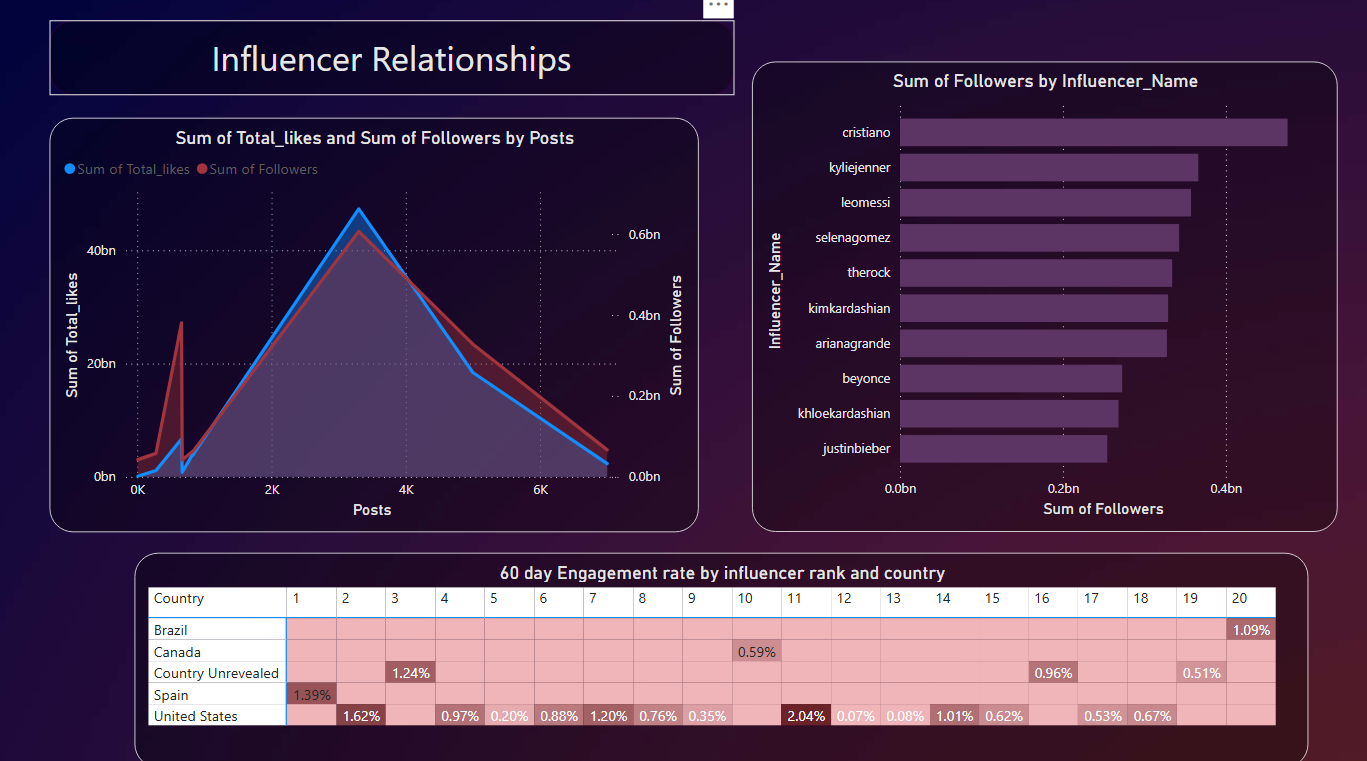

This screenshot's page, from the dashboard's own definition file:
{"tool":"powerbi","page":{"name":"Dashboard Pg4","canvas":[1280,720],"ordinal":3},"visuals":[{"type":"pivotTable","title":"60 day Engagement rate by influencer rank and country","fields":{"Columns":["top_insta_influencers_data.Rank"],"Values":["Avg(top_insta_influencers_data.60_day_eng_rate)"],"Rows":["top_insta_influencers_data.Country"]},"box":[127.6,520.1,1092.3,200.3],"z":0},{"type":"areaChart","fields":{"Category":["top_insta_influencers_data.Posts"],"Y":["Sum(top_insta_influencers_data.Total_likes)"],"Y2":["Sum(top_insta_influencers_data.Followers)"]},"box":[49.4,115.3,603.8,385.6],"z":1000},{"type":"barChart","fields":{"Category":["top_insta_influencers_data.Influencer_Name"],"Y":["Sum(top_insta_influencers_data.Followers)"]},"box":[702.6,63.1,544.8,437.7],"z":2000},{"type":"textbox","box":[49.4,24.7,636.7,70],"z":3000}]}

Visuals, with their boxes in screenshot pixels (x1, y1, x2, y2), scaled from the page's 1280x720 canvas onto the 1367x761 screenshot:
"60 day Engagement rate by influencer rank and country" pivotTable: detection(136, 550, 1303, 760)
areaChart - top_insta_influencers_data.Posts x Sum(top_insta_influencers_data.Total_likes): detection(53, 122, 698, 529)
barChart - top_insta_influencers_data.Influencer_Name x Sum(top_insta_influencers_data.Followers): detection(750, 67, 1332, 529)
textbox: detection(53, 26, 733, 100)
